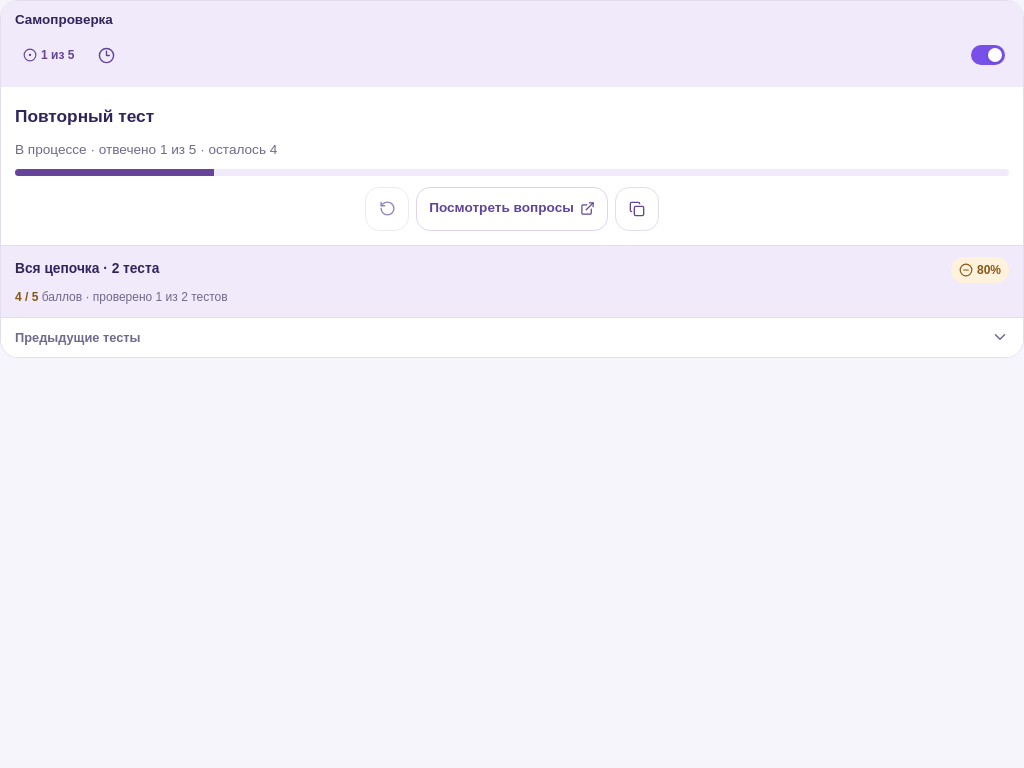
time control in the existing quiz card › shows an icon-only disclosure for the active and previous attempt; parent=true
The image size is (1024, 768).
Expected: the text "Последнее изменение" is not shown
Click the button named "Показать время теста «Повторный тест»" at point(106, 56), box [84,34,128,78]
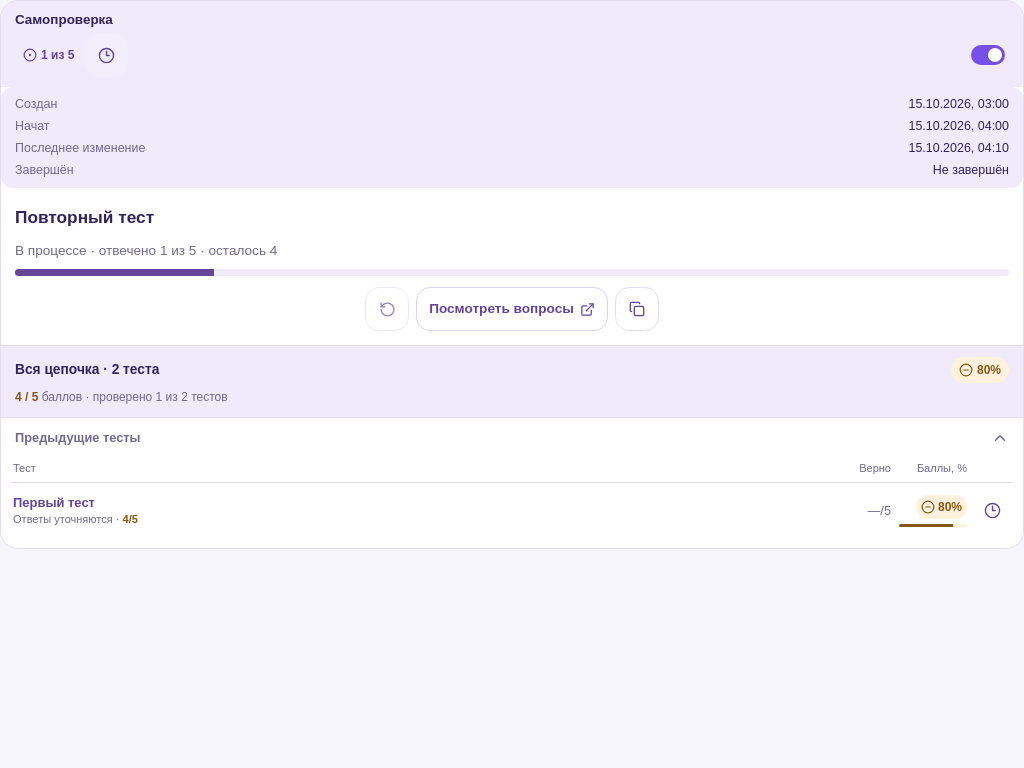
Now the text "Создан" is shown, box [15,98,57,112]
Now the text "Начат" is shown, box [15,119,50,133]
Now the text "Последнее изменение" is shown, box [15,141,145,155]
Click the button named "Показать время теста «Первый тест»" at point(992, 511), box [970,489,1014,533]
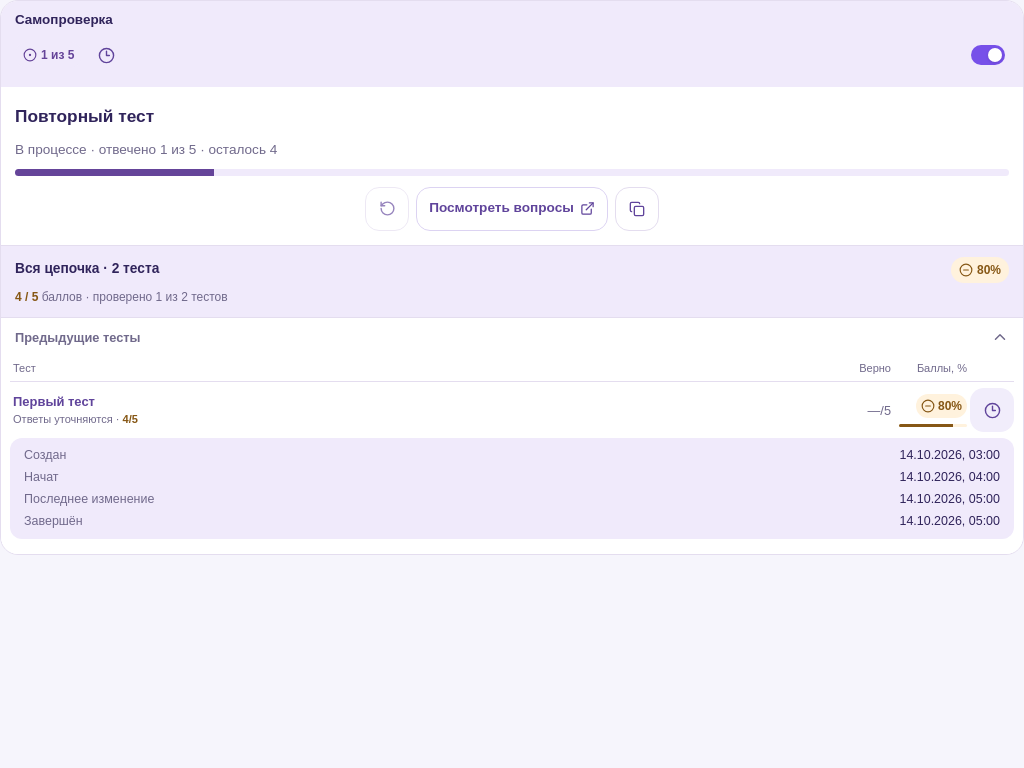
Now the text "Завершён" is shown, box [24,514,83,528]
Now the button named "Показать время теста «Первый тест»" is expanded, box [970,388,1014,432]
Now the text "Не завершён" is gone
